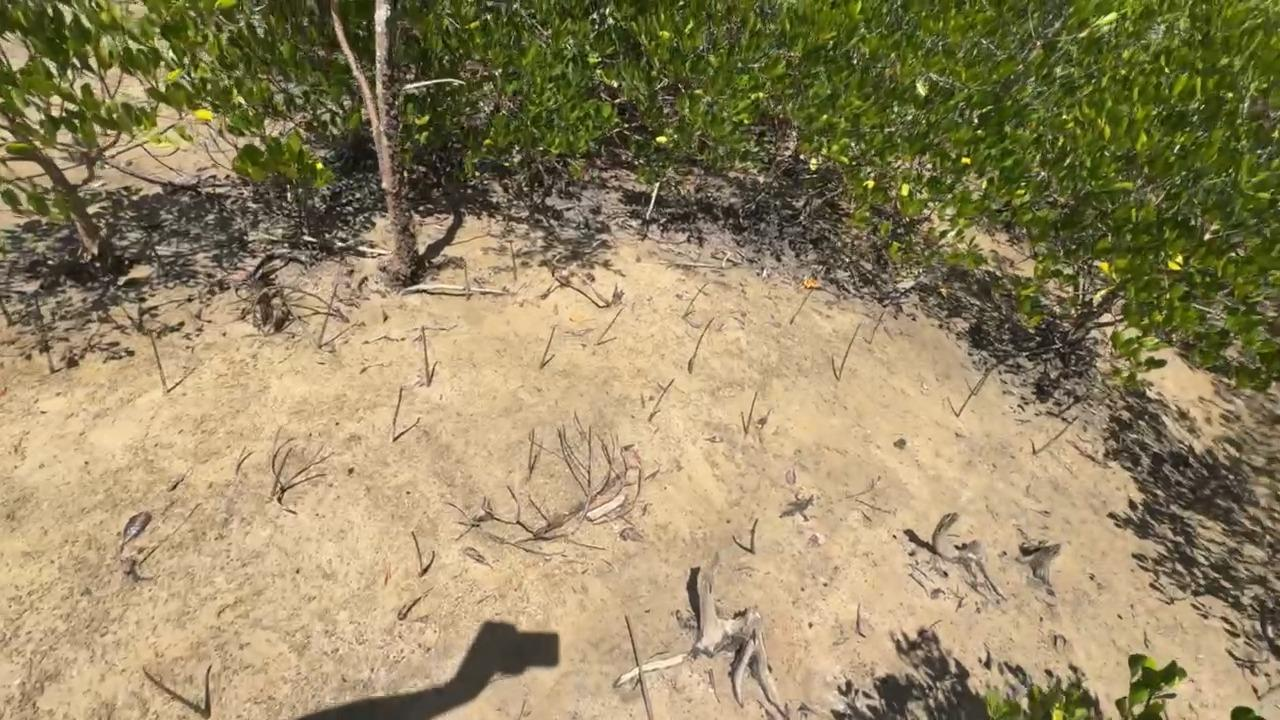Tree: (624, 613, 655, 720), (1030, 415, 1080, 455), (834, 322, 864, 382), (687, 317, 716, 374), (315, 279, 340, 344), (147, 328, 170, 395), (35, 299, 55, 375), (956, 373, 989, 418), (647, 378, 676, 423), (594, 307, 628, 345), (680, 280, 711, 319), (388, 383, 406, 445), (537, 325, 560, 370), (790, 287, 815, 325), (524, 426, 539, 482), (867, 308, 890, 344), (741, 390, 759, 434), (201, 662, 215, 718), (420, 323, 432, 388), (410, 531, 425, 577), (973, 366, 995, 397), (235, 445, 248, 475), (509, 240, 518, 280), (1, 296, 13, 325), (750, 518, 759, 555), (464, 253, 469, 303), (856, 602, 861, 632)
